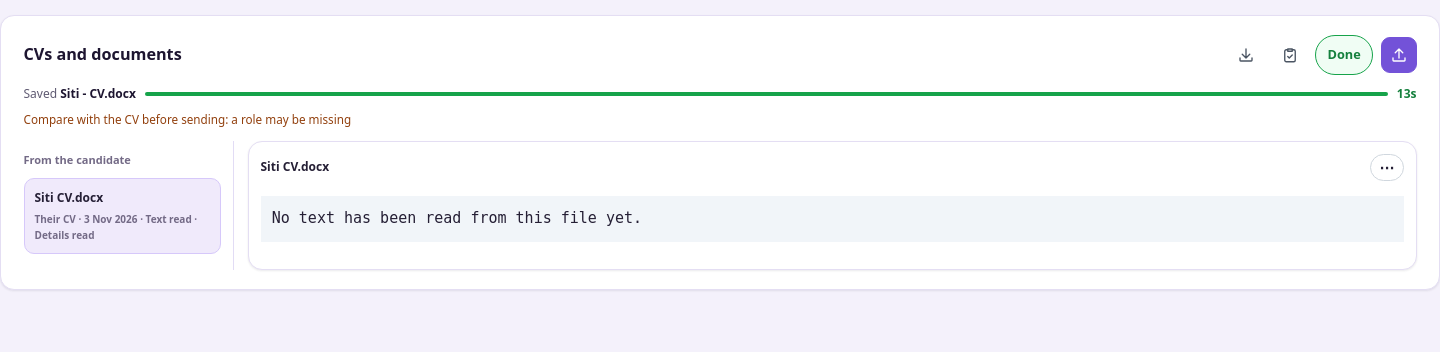
Test: formatting a CV › runs once: orange with the seconds while it runs, green Done once saved, then back to Format a CV
The width and height of the screenshot is (1440, 352).
Later steps or results of the test are not shown.
Check: the message named "CV formatting" shows "Saved Siti - CV.docx", box [24,84,1416,132]
Check: the text "Compare with the CV before sending: a role may be missing" is shown, box [24,111,351,127]
Click the button "Done": click(1344, 55) [1315,35,1373,75]
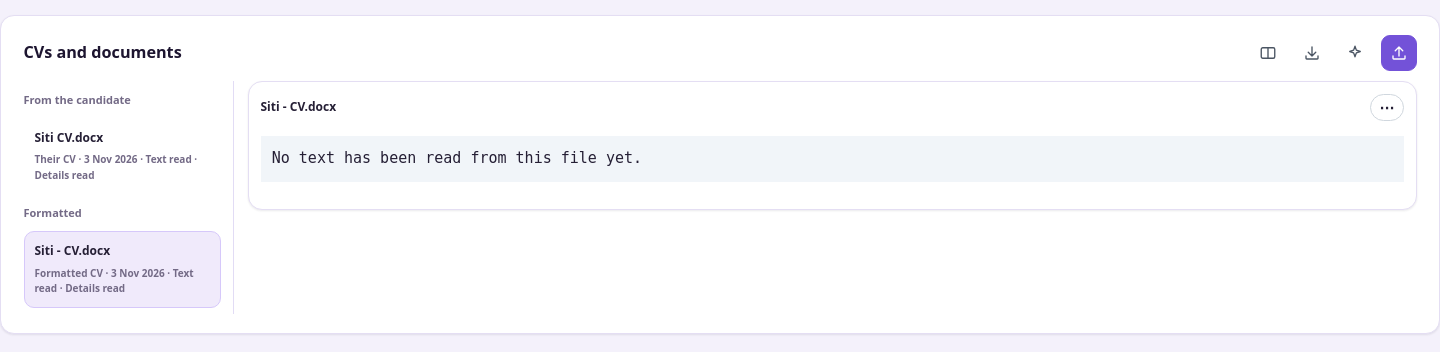
Check: the button named "Format a CV" is shown, box [1337,35,1373,71]
